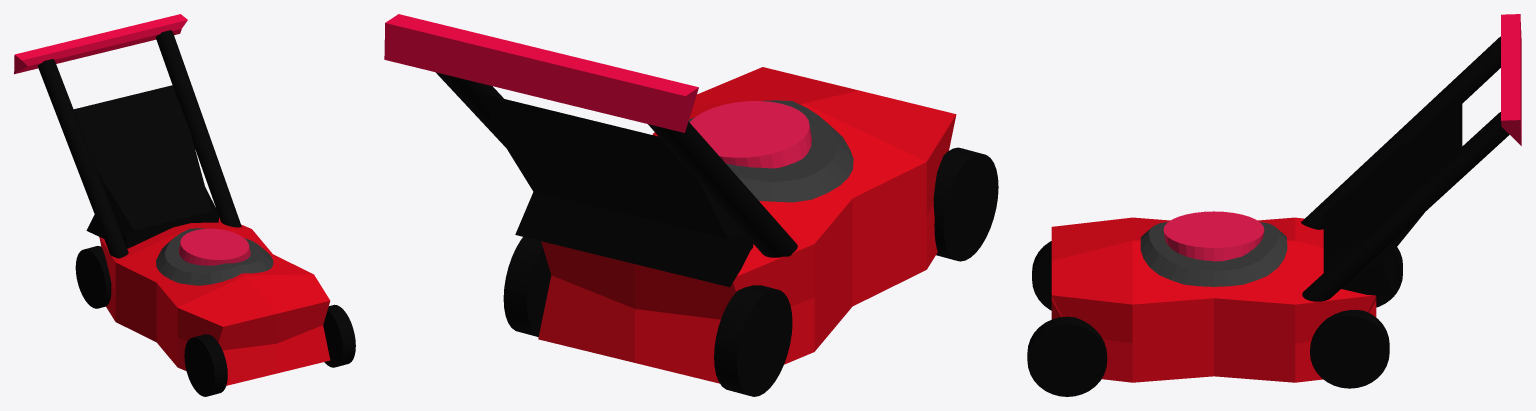
Rendered from LawnMover.fbx.
The picture shows the model from 3 angles, left to right: view 1: azimuth 30°, elevation 25°; view 2: azimuth 150°, elevation 25°; view 3: azimuth 270°, elevation 25°; orthographic projection. The views are drawn at different scales.
Parts seen in each view (by area): view 1: Body, Sack, RightHandlePart, LeftHandlePart, TopHandlePart, TopPart, TopPart2, TopRightWheel, BottomRightWheel, TopLeftWheel; view 2: Body, Sack, TopHandlePart, BottomRightWheel, TopPart2, TopRightWheel, RightHandlePart, TopPart, BottomLeftWheel, LeftHandlePart; view 3: Body, Sack, LeftHandlePart, TopLeftWheel, BottomLeftWheel, TopPart, RightHandlePart, TopPart2, TopHandlePart, TopRightWheel, BottomRightWheel.
Boxes of the visible parts, box(x1,y1,x2,y2) form: Body: box(99, 217, 330, 385); Sack: box(73, 85, 219, 248); RightHandlePart: box(37, 59, 128, 258); LeftHandlePart: box(155, 30, 241, 227); TopHandlePart: box(14, 14, 187, 74); TopPart: box(156, 228, 273, 285); TopPart2: box(179, 228, 250, 265); TopRightWheel: box(184, 334, 227, 396); BottomRightWheel: box(75, 246, 111, 308); TopLeftWheel: box(323, 304, 355, 367); Body: box(538, 67, 956, 383); Sack: box(480, 93, 753, 287); TopHandlePart: box(384, 14, 698, 132); BottomRightWheel: box(714, 285, 792, 396); TopPart2: box(689, 101, 811, 168); TopRightWheel: box(933, 147, 998, 261); RightHandlePart: box(648, 121, 797, 257); TopPart: box(688, 100, 853, 202); BottomLeftWheel: box(503, 237, 551, 336); LeftHandlePart: box(436, 72, 505, 147); Body: box(1051, 217, 1376, 382); Sack: box(1323, 98, 1462, 296); LeftHandlePart: box(1302, 112, 1509, 301); TopLeftWheel: box(1027, 316, 1107, 396); BottomLeftWheel: box(1310, 309, 1389, 388); TopPart: box(1140, 222, 1287, 286); RightHandlePart: box(1301, 36, 1500, 229); TopPart2: box(1163, 211, 1264, 261); TopHandlePart: box(1501, 14, 1521, 145); TopRightWheel: box(1032, 241, 1051, 310); BottomRightWheel: box(1376, 247, 1402, 307).
Bounding box in the file's own units: 244 × 306 × 480.
